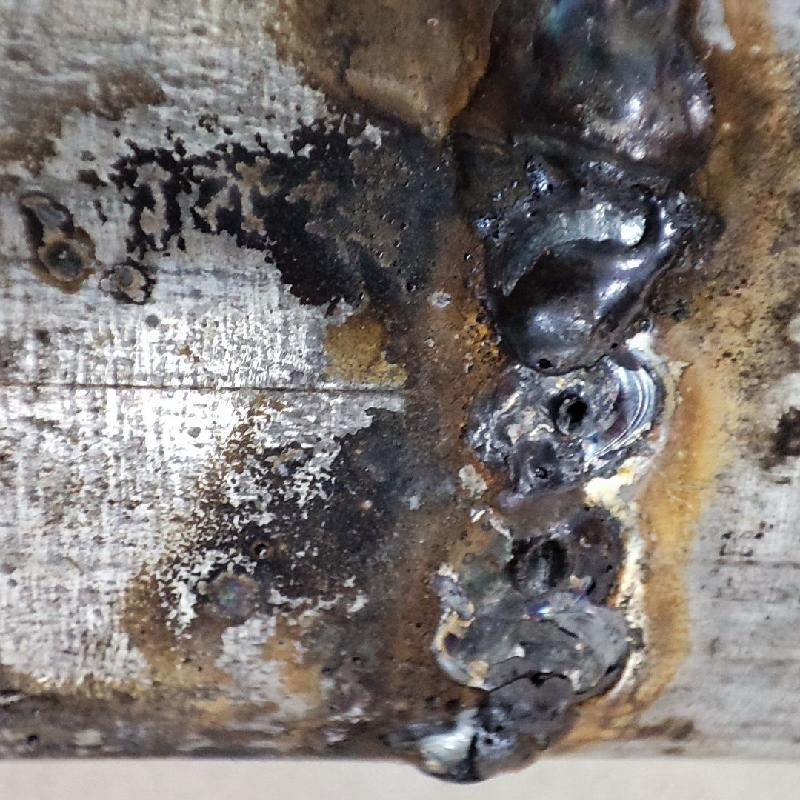Not_fully_soldered: (445, 377, 688, 697)
Surface_pores: (518, 342, 576, 380)
Weld: (447, 2, 717, 374)
